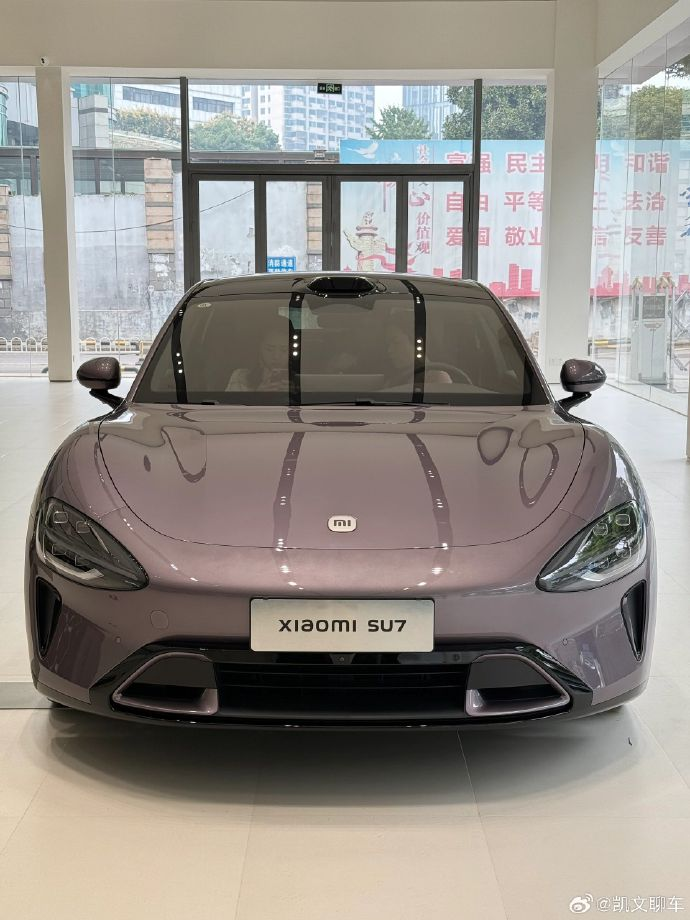other: (22, 264, 661, 735)
